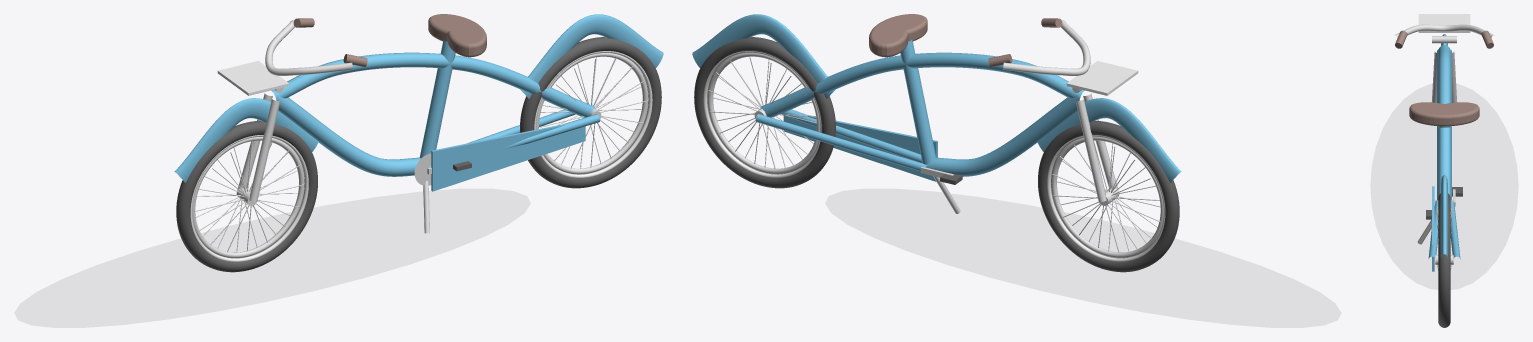
File: build-a-beach-cruiser-in-high-fidelity.gltf
3 renders of one model, left to right at view 1: azimuth 30°, elevation 25°; view 2: azimuth 150°, elevation 25°; view 3: azimuth 270°, elevation 25°, orthographic. The views are drawn at different scales.
Bounding box in the file's own units: 10.14 × 3.23 × 2.4.
